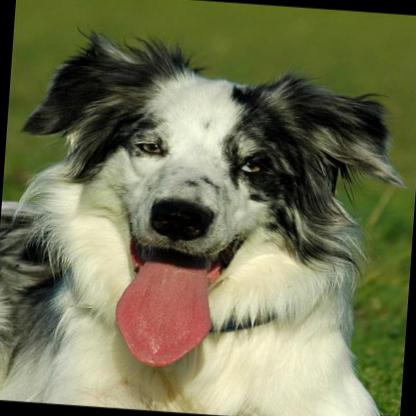Border_collie: (0, 18, 416, 416)
